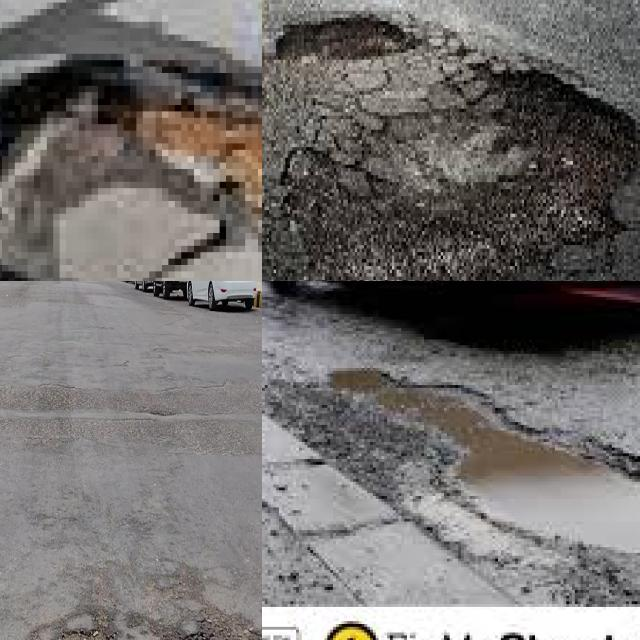Pothole: (0, 15, 262, 281), (330, 371, 640, 590), (327, 147, 559, 224), (489, 56, 640, 144), (346, 221, 513, 281), (276, 14, 422, 60), (540, 231, 617, 281)
